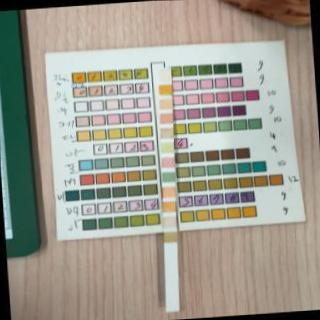mark: (164, 216, 178, 228), (160, 156, 174, 168), (159, 128, 173, 140), (163, 232, 178, 242), (159, 100, 173, 110), (163, 201, 175, 212), (162, 187, 174, 198), (162, 173, 175, 183), (160, 143, 172, 153), (160, 85, 172, 95), (158, 70, 171, 79), (161, 114, 172, 124)
